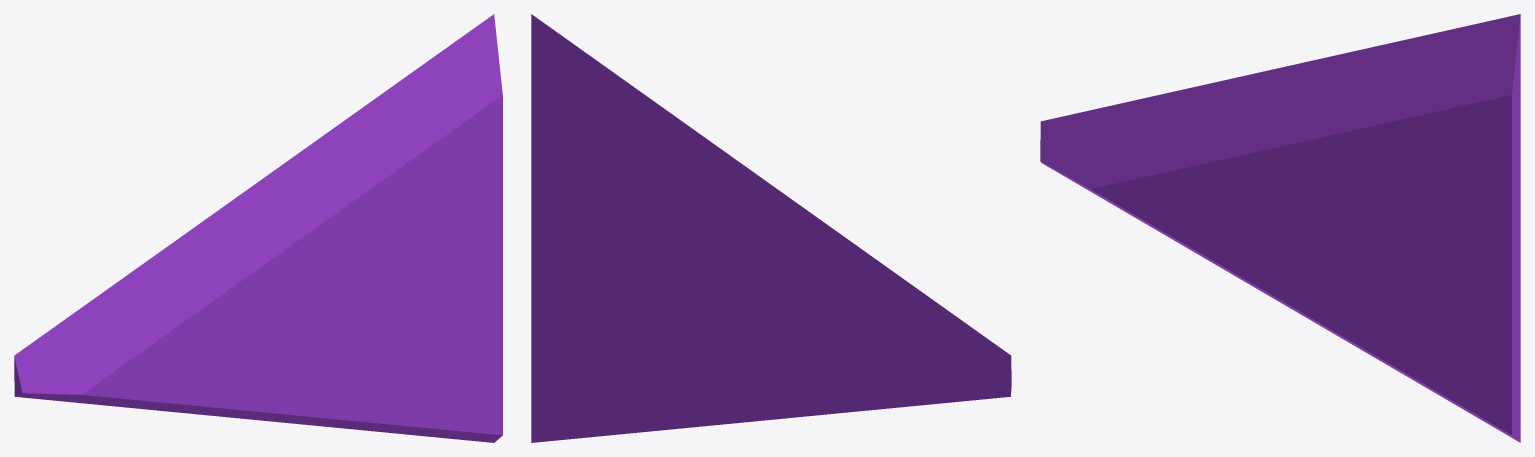
The model's file is Glass_14_2_chunks.fbx.
3 views of the same model, side by side, from view 1: azimuth 30°, elevation 25°; view 2: azimuth 150°, elevation 25°; view 3: azimuth 330°, elevation 25° (orthographic).
Visible parts, largest first — view 1: Glass_14_2_0, Glass_14_2_3, Glass_14_2_7, Glass_14_2_2, Glass_14_2_4, Glass_14_2_6, Glass_14_2_9, Glass_14_2_5, Glass_14_2_1, Glass_14_2_8; view 2: Glass_14_2_1, Glass_14_2_0, Glass_14_2_7, Glass_14_2_2, Glass_14_2_6, Glass_14_2_9, Glass_14_2_4, Glass_14_2_5, Glass_14_2_3; view 3: Glass_14_2_0, Glass_14_2_3, Glass_14_2_4, Glass_14_2_7, Glass_14_2_2, Glass_14_2_6, Glass_14_2_5, Glass_14_2_9, Glass_14_2_1, Glass_14_2_8.
Boxes of the visible parts, x1,y1,x2,y2 form: Glass_14_2_0: [14, 280, 284, 420]; Glass_14_2_3: [266, 277, 462, 430]; Glass_14_2_7: [345, 14, 501, 229]; Glass_14_2_2: [278, 97, 485, 304]; Glass_14_2_4: [419, 82, 502, 313]; Glass_14_2_6: [120, 221, 352, 316]; Glass_14_2_9: [131, 104, 367, 272]; Glass_14_2_5: [431, 293, 502, 435]; Glass_14_2_1: [267, 377, 501, 442]; Glass_14_2_8: [188, 174, 348, 256]; Glass_14_2_1: [531, 282, 768, 442]; Glass_14_2_0: [759, 280, 1011, 420]; Glass_14_2_7: [531, 14, 690, 229]; Glass_14_2_2: [540, 97, 725, 293]; Glass_14_2_6: [674, 212, 905, 313]; Glass_14_2_9: [657, 104, 894, 272]; Glass_14_2_4: [531, 88, 598, 275]; Glass_14_2_5: [531, 255, 624, 340]; Glass_14_2_3: [617, 281, 688, 314]; Glass_14_2_0: [1040, 98, 1293, 309]; Glass_14_2_3: [1275, 195, 1471, 411]; Glass_14_2_4: [1428, 81, 1520, 313]; Glass_14_2_7: [1354, 14, 1520, 156]; Glass_14_2_2: [1287, 89, 1497, 236]; Glass_14_2_6: [1146, 95, 1361, 200]; Glass_14_2_5: [1440, 258, 1520, 435]; Glass_14_2_9: [1157, 42, 1393, 105]; Glass_14_2_1: [1291, 269, 1520, 442]; Glass_14_2_8: [1209, 100, 1363, 144].
Bounding box in the file's own units: 871 × 744 × 27.2.
